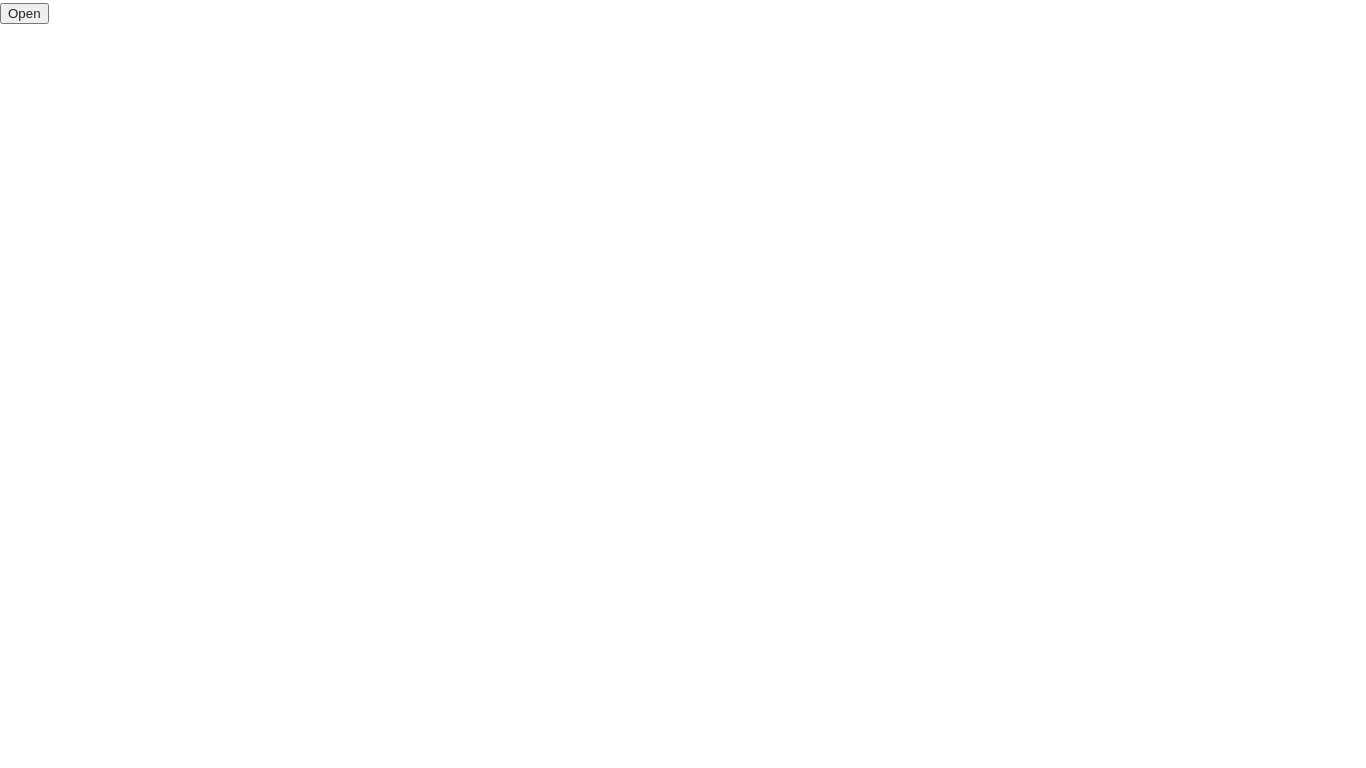
Scenario: ui/* components › Dialog opens with title, description and close button
What coordinates should you click on to do the following:
click the button "Open"
I would click on:
 (24, 14)
Its box is [0,3,49,24].
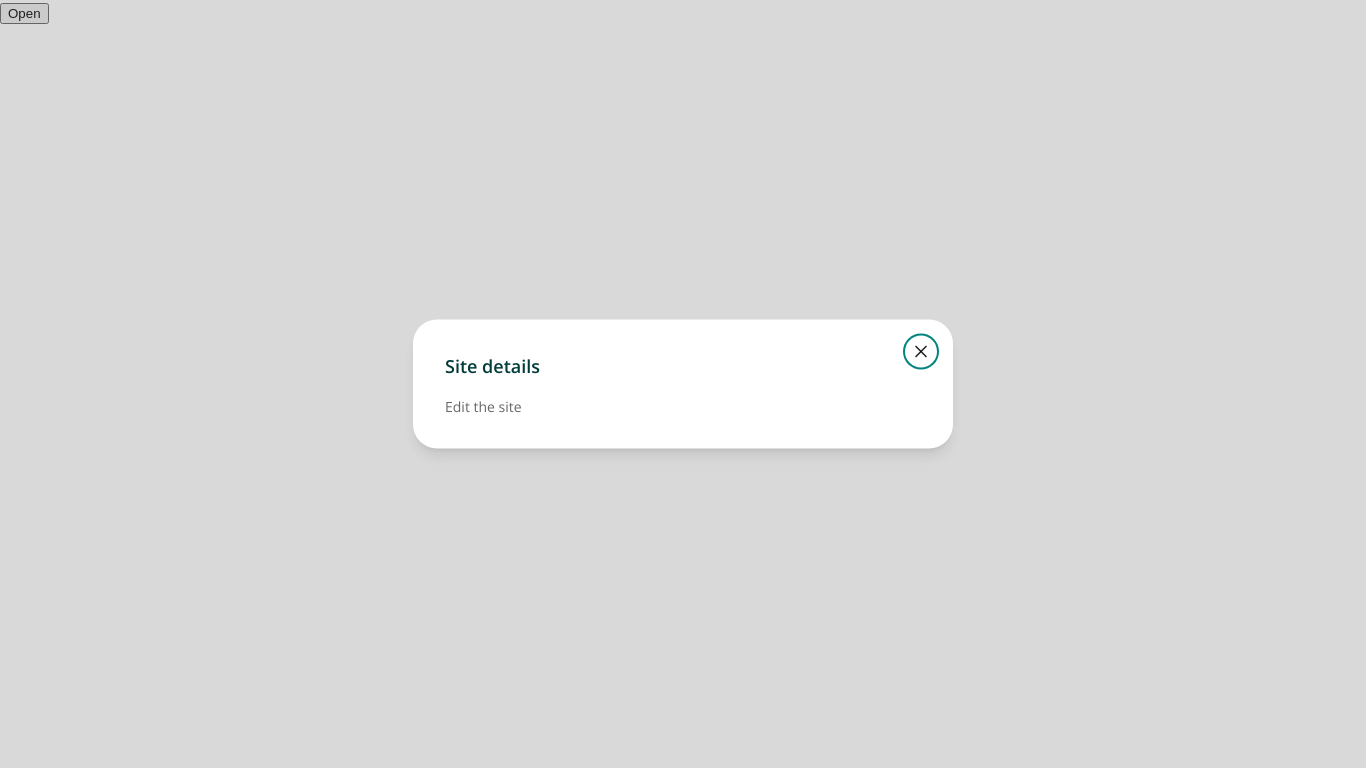
Now the dialog "Site details" is shown, box [413,320,953,448]
What coordinates should you click on to do the following:
click the button named "Close dialog"
I would click on:
 (921, 352)
Its box is [905,336,937,368].
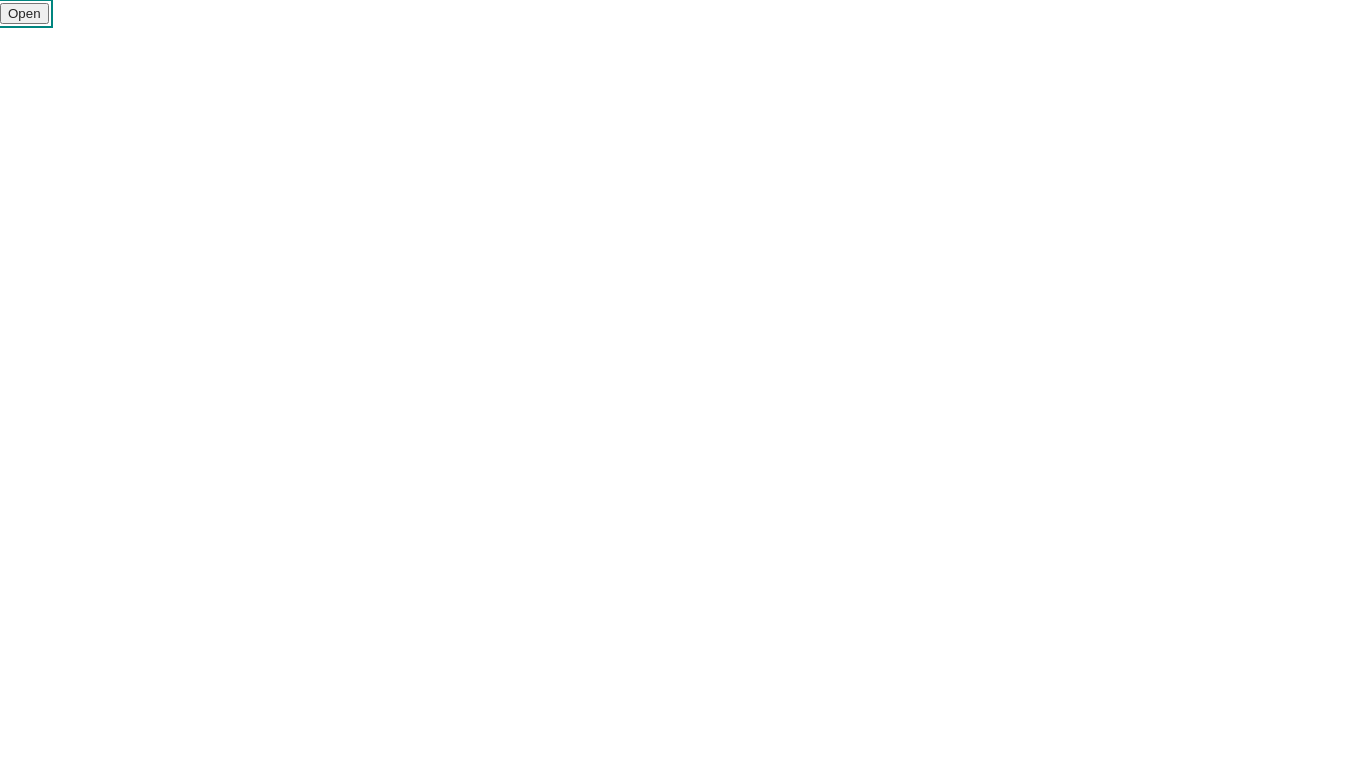
Now the dialog is gone
